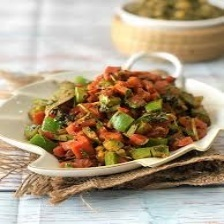sabzi: (22, 64, 211, 169)
